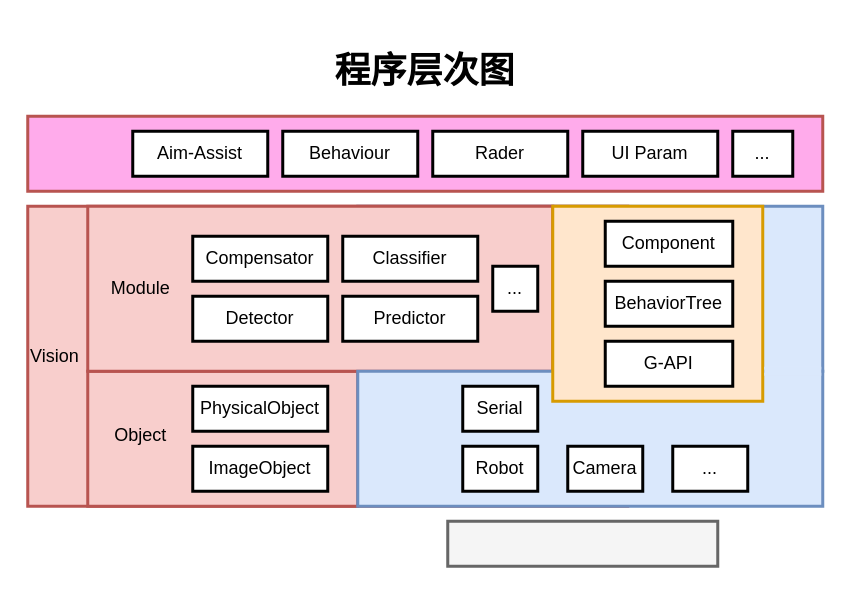
Image size: 849x593. Some labels were removed from this diagram. Here are the shapes that lost their labels. From the top down, the box of each, then its label:
(26, 114, 824, 192): Application
(550, 204, 764, 402): 组件
(356, 369, 824, 507): Device
(446, 519, 718, 567): 硬件
